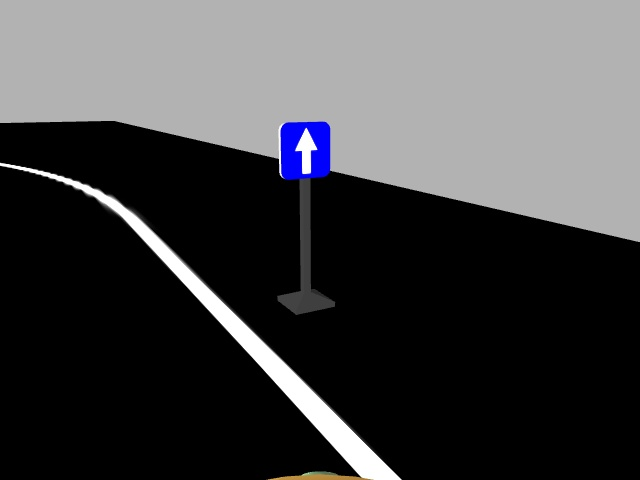OneWay: (277, 120, 331, 180)
